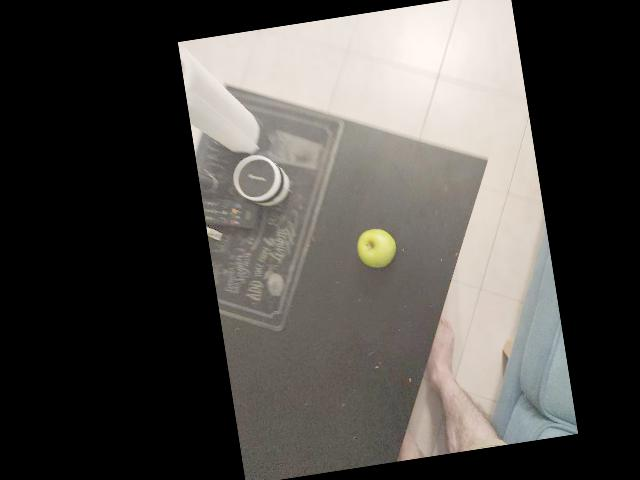apple: (409, 145, 475, 212)
